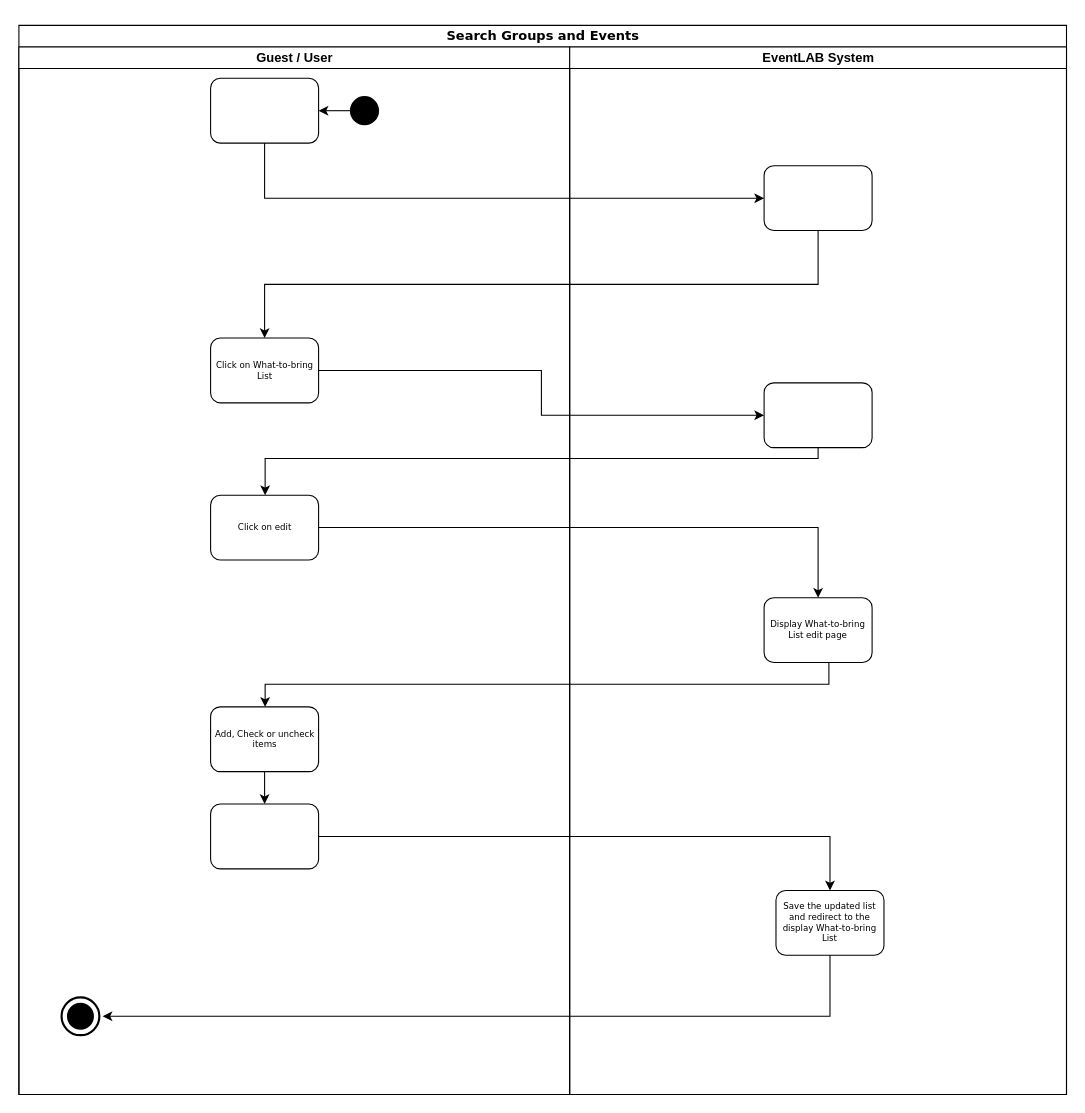
Some shapes in this 1085 by 1113 pixel diagram are drawn without their labels. The shapes that lost their labels are listed below. From the top down, each one's centre as x and y in pixels, then its label:
At [264,110]: "Select event from calendar view".
At [817,198]: "Display calendar detail view".
At [817,415]: "Display What-to-bring List".
At [264,836]: "Click on OK".
